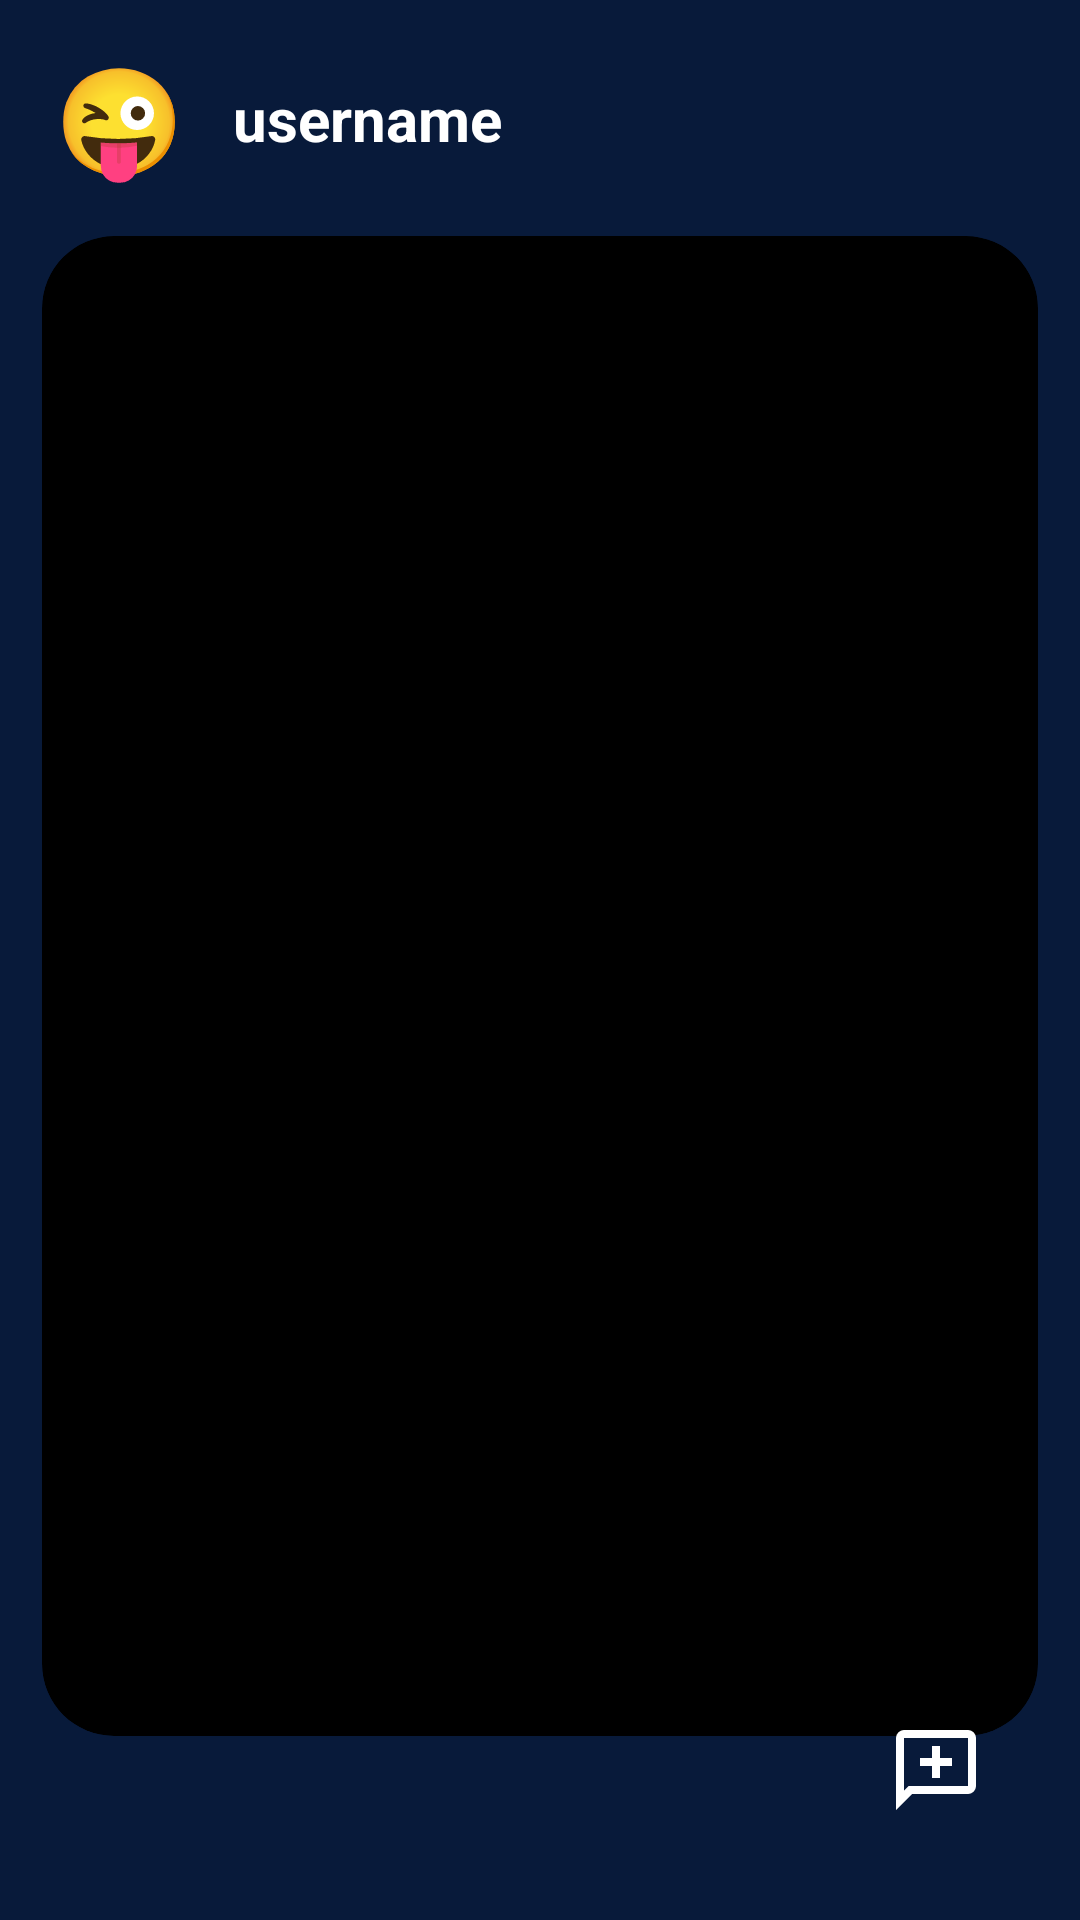

Where to tap for icons on this 1080 × 1920 app screen, as (x,y):
add comment: (936,1763)
